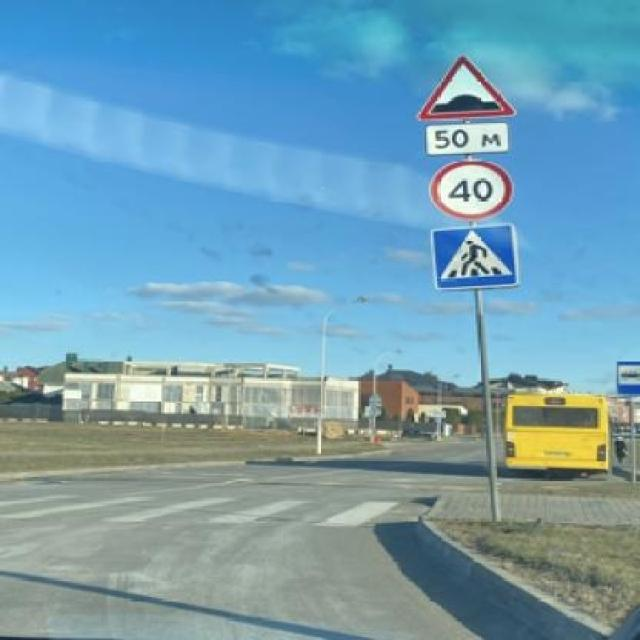forb_speed_over_40: (430, 158, 512, 220)
